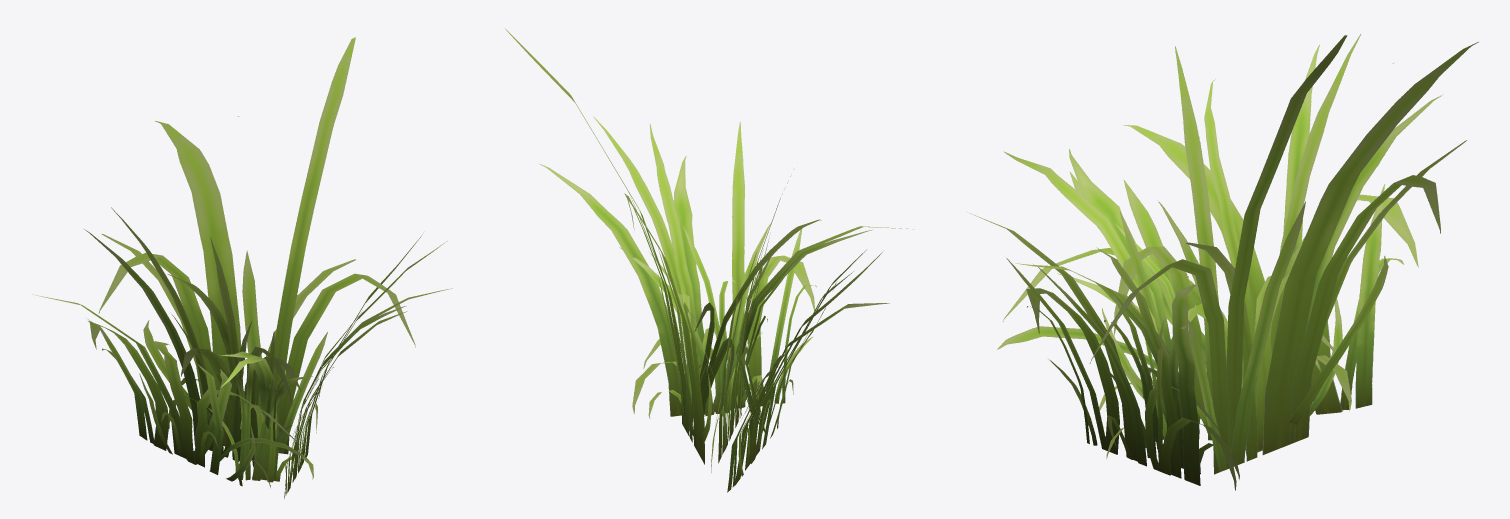
File: Grass_1.fbx
The picture shows the model from 3 angles, left to right: view 1: azimuth 30°, elevation 25°; view 2: azimuth 150°, elevation 25°; view 3: azimuth 270°, elevation 25°; orthographic projection. The views are drawn at different scales.
Parts seen in each view (by area): view 1: T_Low29; view 2: T_Low29; view 3: T_Low29.
Boxes of the visible parts, x1,y1,x2,y2 form: T_Low29: (32, 37, 452, 498); T_Low29: (505, 28, 913, 492); T_Low29: (969, 34, 1478, 490).
Size of the model in its own units: 64.89 by 62.14 by 55.33.
